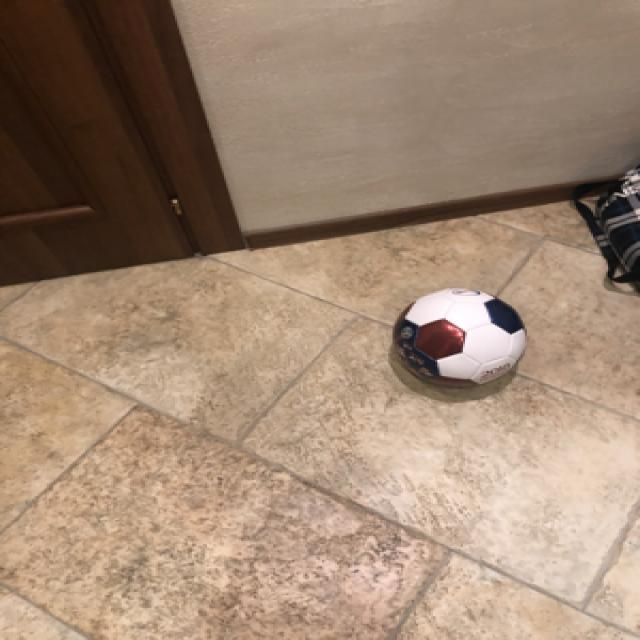soccer_ball: (388, 286, 527, 391)
